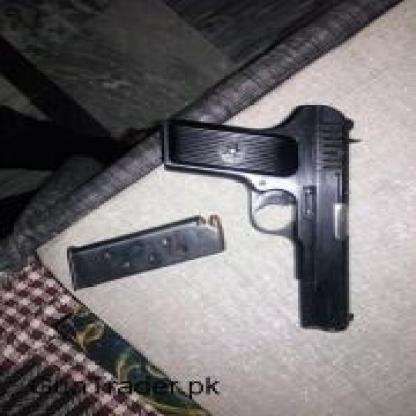Pistol: (153, 102, 361, 335)
